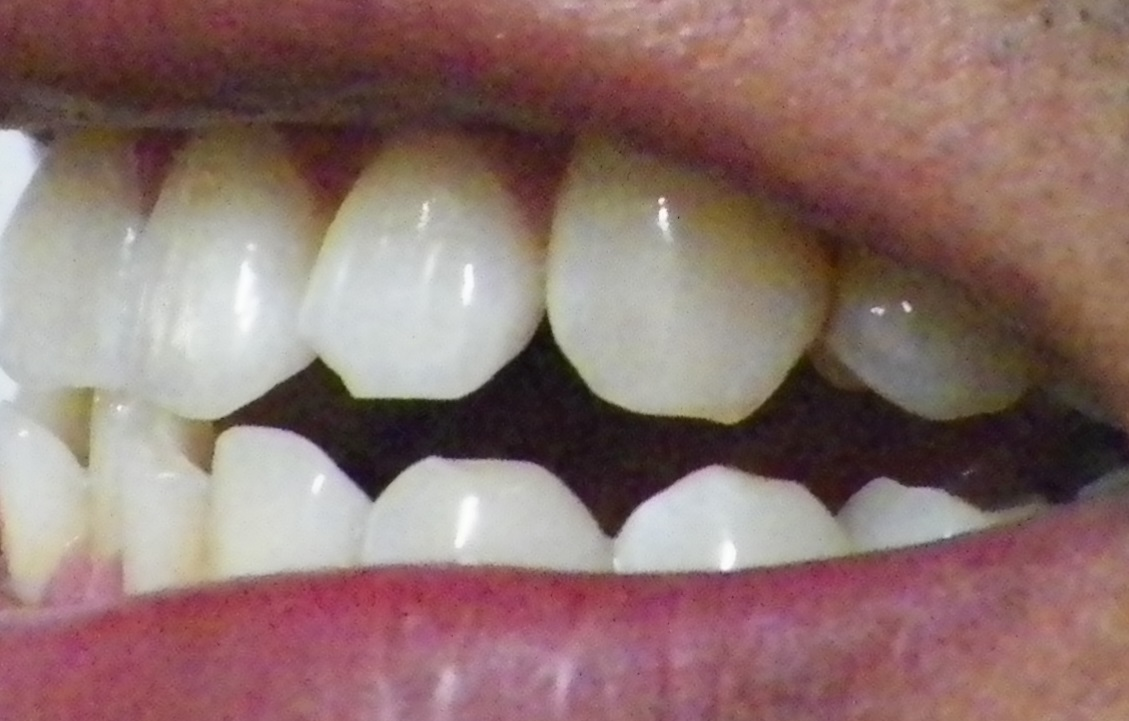boca: (1, 123, 1049, 593)
